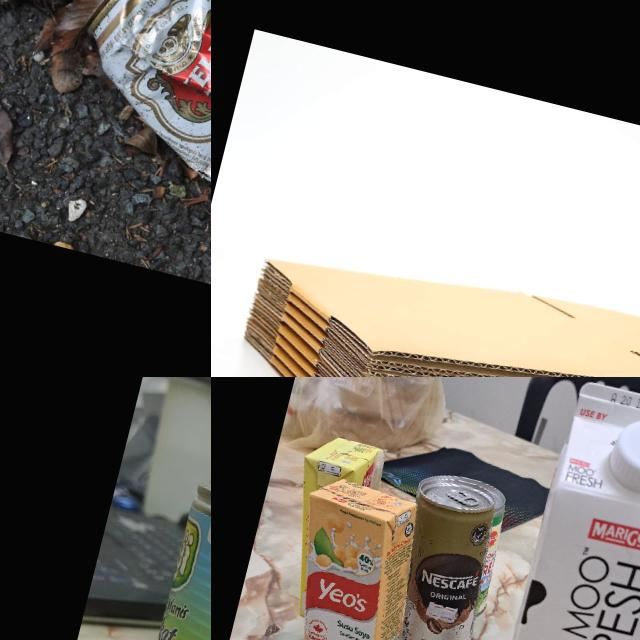aba de lata: (442, 482, 482, 512)
caixinha: (466, 377, 640, 640), (267, 472, 437, 640), (268, 430, 389, 628)
lata: (50, 0, 211, 248), (112, 377, 211, 640), (373, 467, 516, 640)
papelão: (220, 218, 640, 377)
tampa plástica: (605, 413, 640, 501)
